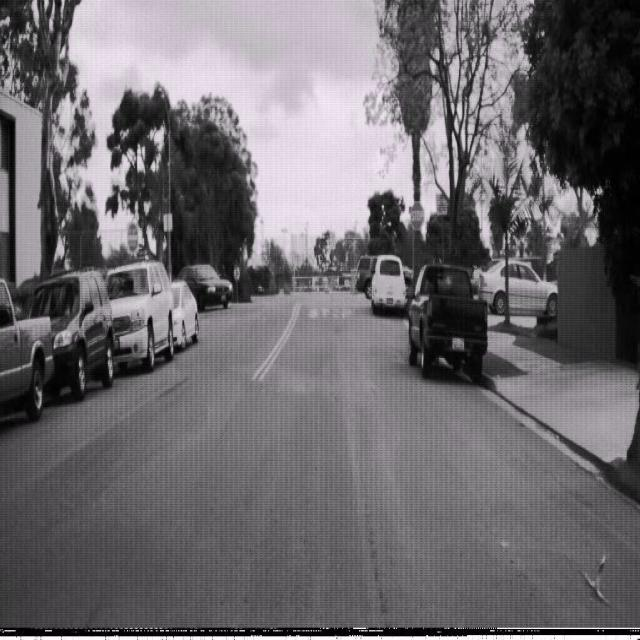doNotEnter: (126, 220, 139, 252)
stop: (409, 198, 425, 232)
